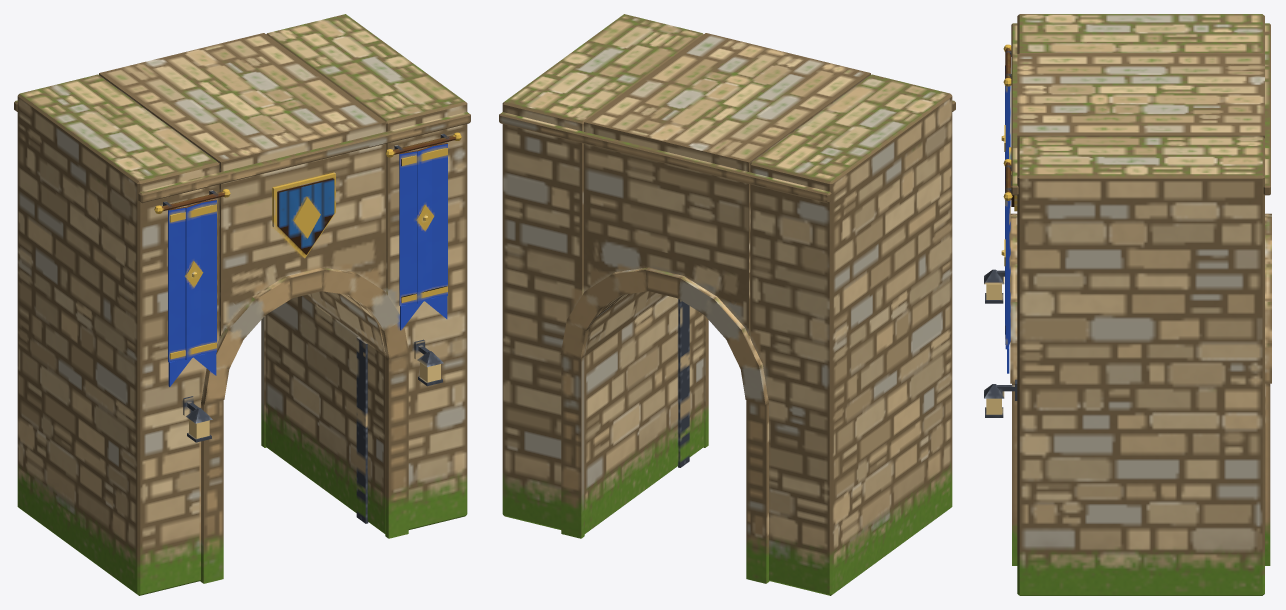
File: Kit_Gate_Arch.fbx
3 views of the same model, side by side, from view 1: azimuth 30°, elevation 25°; view 2: azimuth 150°, elevation 25°; view 3: azimuth 270°, elevation 25° (orthographic).
Parts seen in each view (by area): view 1: Kit_Gate_Arch_LOD0; view 2: Kit_Gate_Arch_LOD0; view 3: Kit_Gate_Arch_LOD0.
Part boxes in pixels (x1,y1,x2,y2): Kit_Gate_Arch_LOD0: [14, 14, 470, 595]; Kit_Gate_Arch_LOD0: [499, 14, 955, 595]; Kit_Gate_Arch_LOD0: [984, 14, 1271, 595].
Size of what is drawn, in the model's own units: 5 by 6 by 3.72.
Materials: 1 (1 with a texture image).
